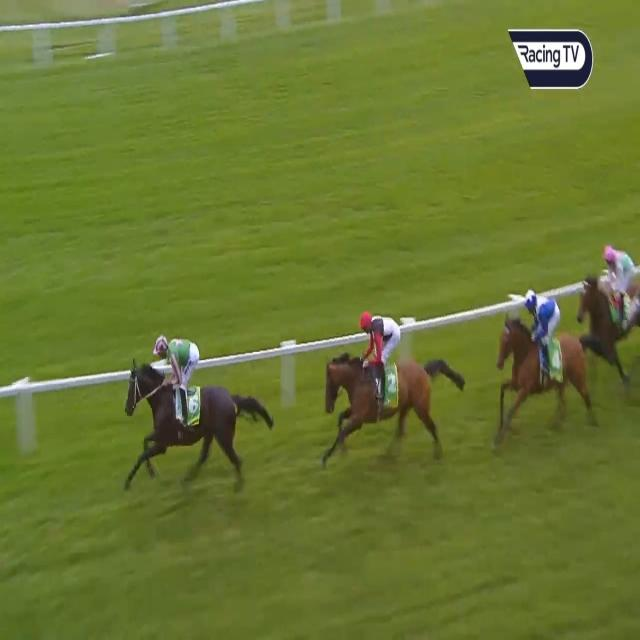horses-racing: (125, 334, 256, 487), (317, 310, 441, 468), (501, 294, 591, 428), (575, 244, 640, 376)
